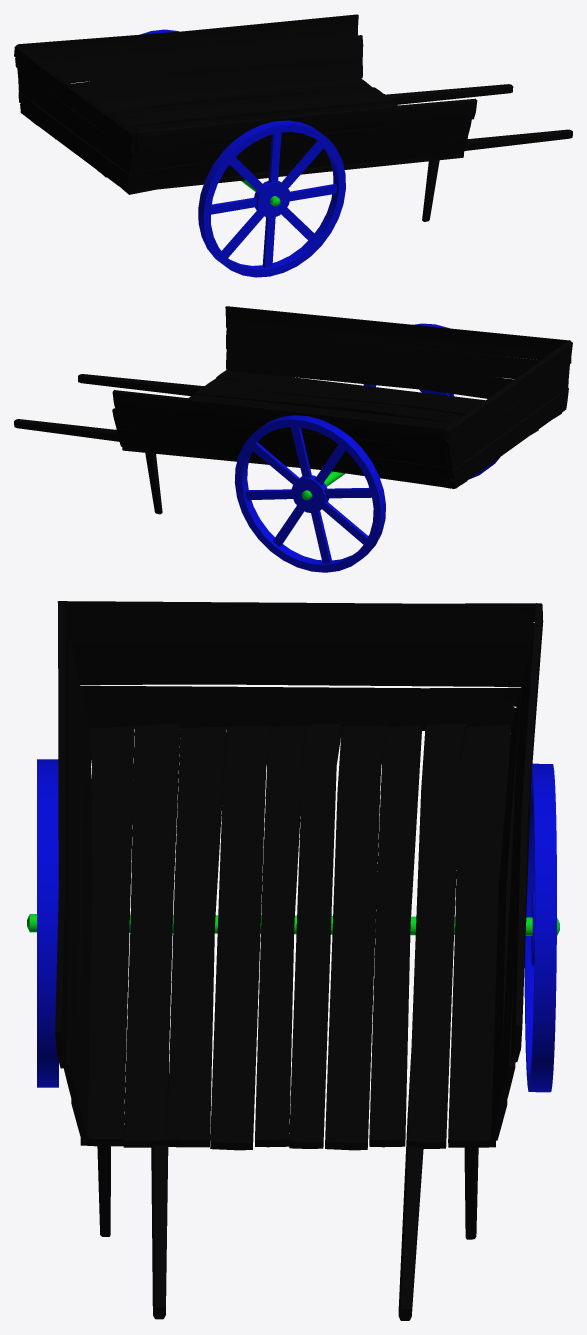
The model's file is Wagon01.fbx.
The picture shows the model from 3 angles, top to bottom: view 1: azimuth 30°, elevation 25°; view 2: azimuth 150°, elevation 25°; view 3: azimuth 270°, elevation 25°; orthographic projection. The views are drawn at different scales.
Visible parts, largest first — view 1: Wagon01; view 2: Wagon01; view 3: Wagon01.
Boxes of the visible parts, x1,y1,x2,y2 form: Wagon01: (14,14,572,277); Wagon01: (14,306,572,572); Wagon01: (27,601,559,1320).
Size of what is drawn, in the model's own units: 319 by 113 by 158.
